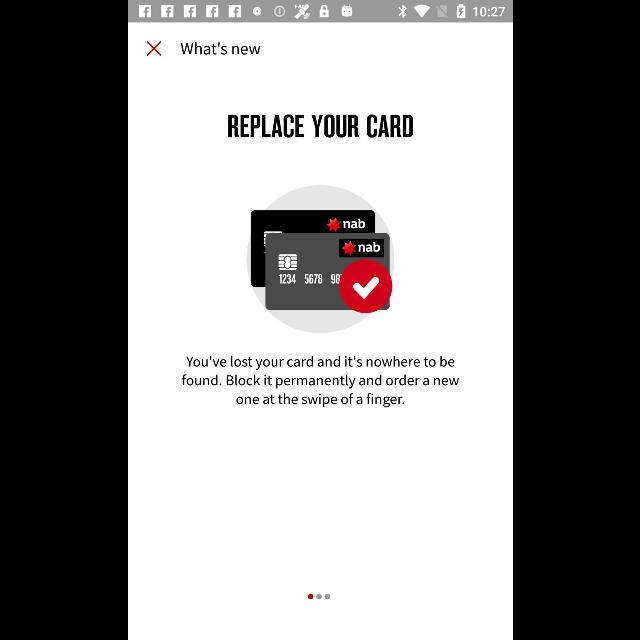icon: (146, 42, 160, 56)
image: (245, 185, 393, 333)
pageindicator: (306, 593, 330, 599)
text: (182, 356, 458, 408), (228, 114, 412, 138), (180, 42, 260, 56)
uppertaskbar: (128, 1, 512, 23)
